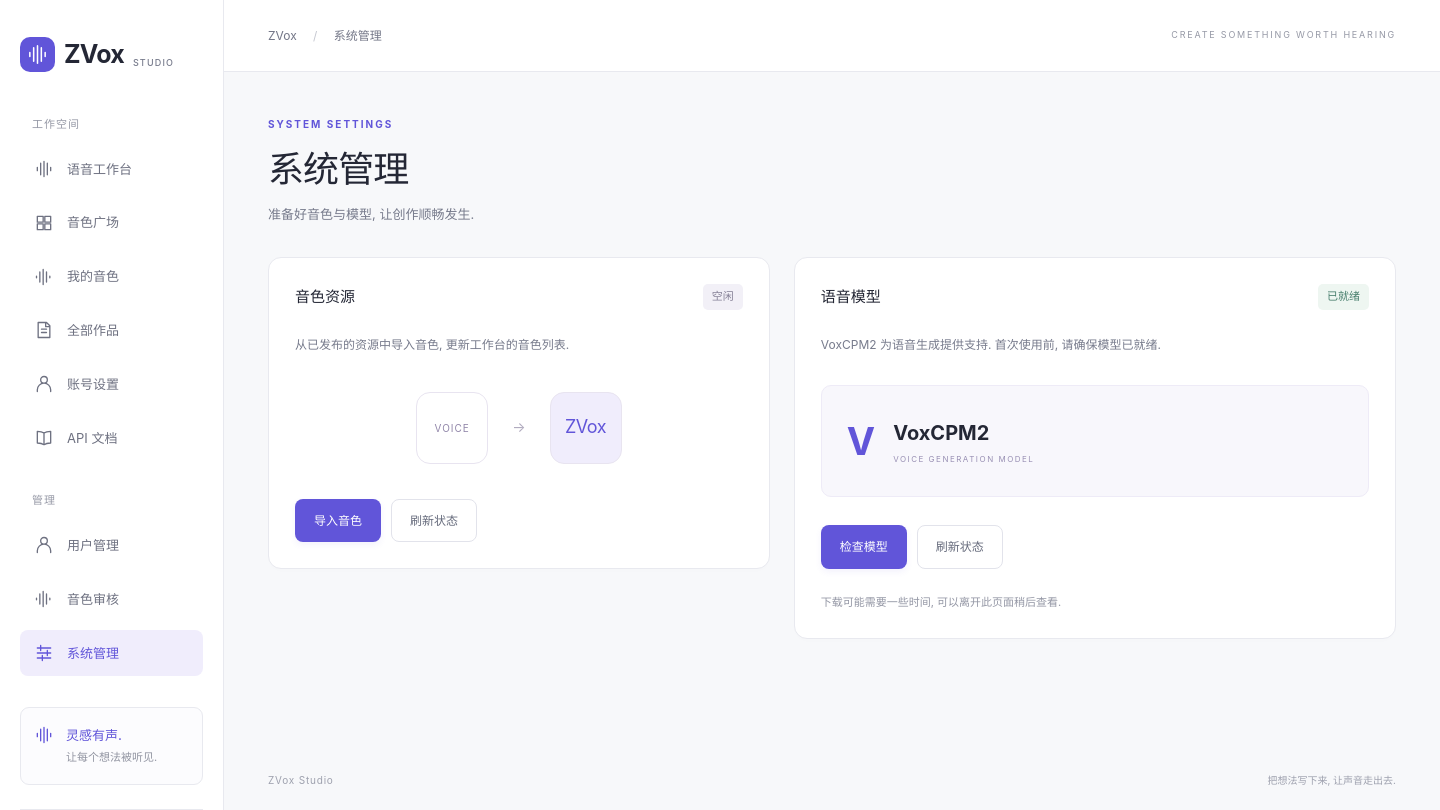
application flows › submits an import only after confirmation and renders its errors
Click the button "导入音色" at (338, 520), box [295,499,381,542]
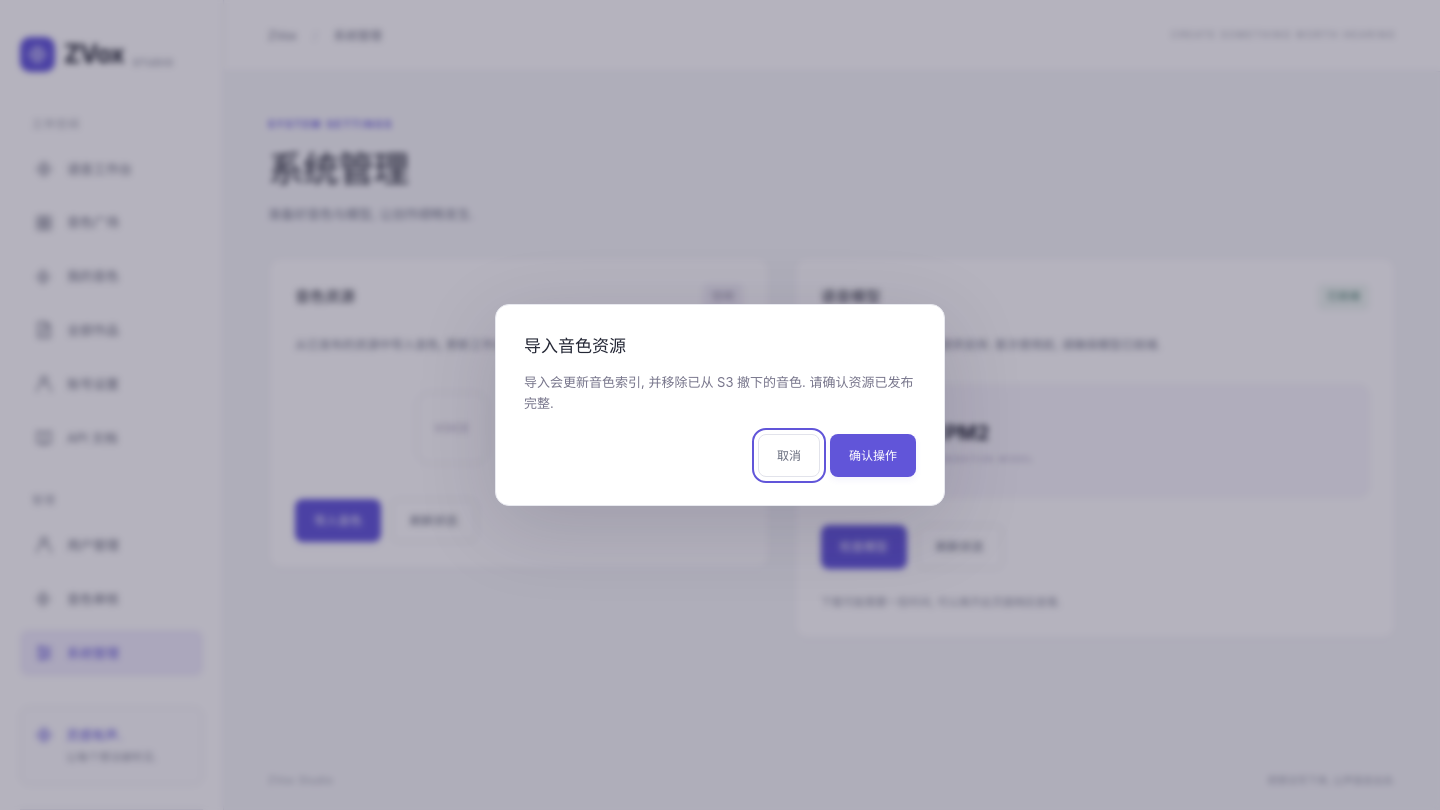
Click the button "确认操作" at (873, 455), box [830,434,916,477]
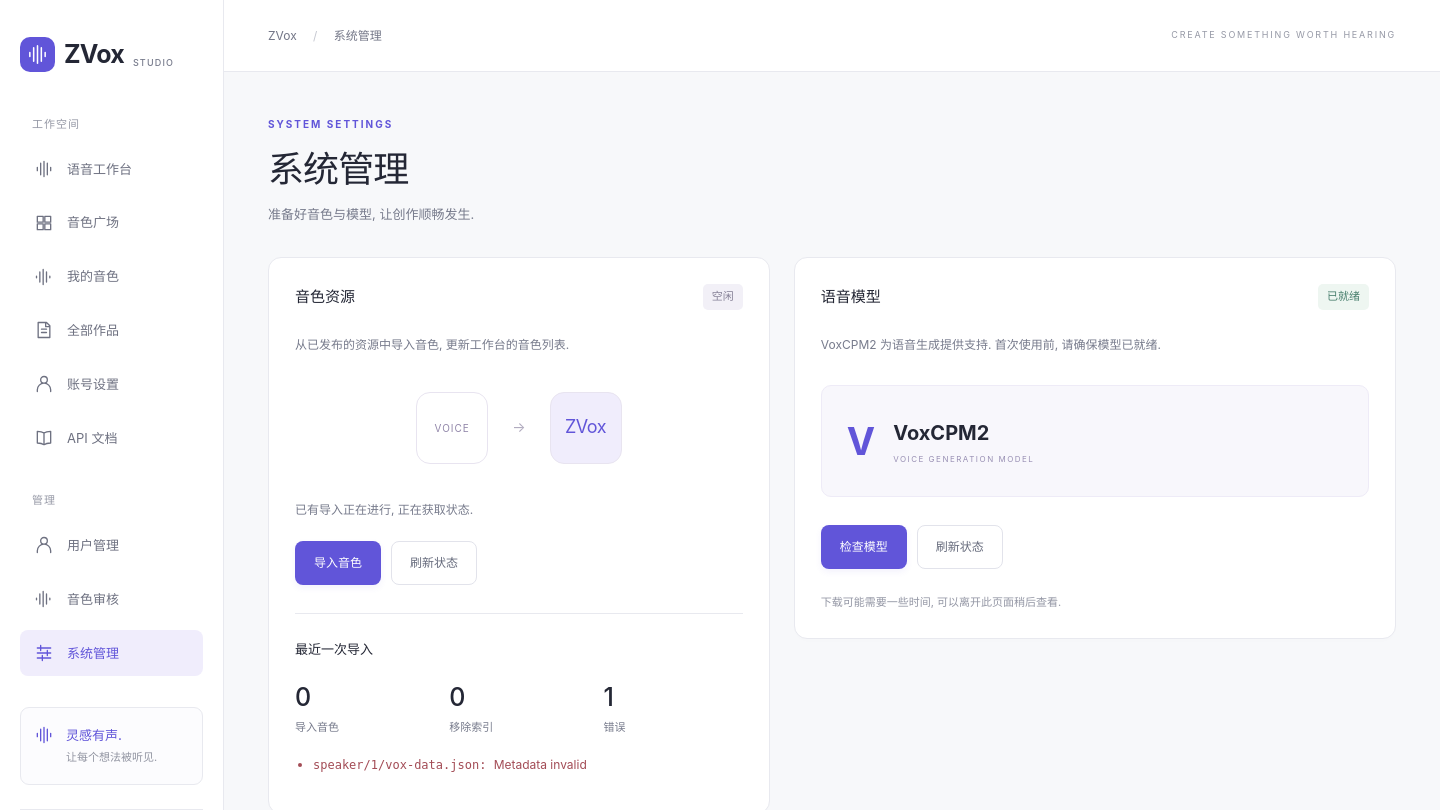
Expected: the list item "speaker/1/vox-data.json: Metadata invalid" is shown, [313,757,587,772]
